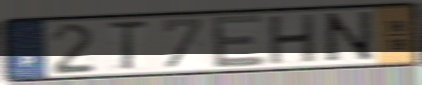2: (49, 21, 99, 76)
7: (160, 17, 205, 72)
E: (209, 13, 268, 71)
H: (268, 12, 318, 67)
N: (321, 9, 378, 65)
T: (103, 19, 151, 73)
